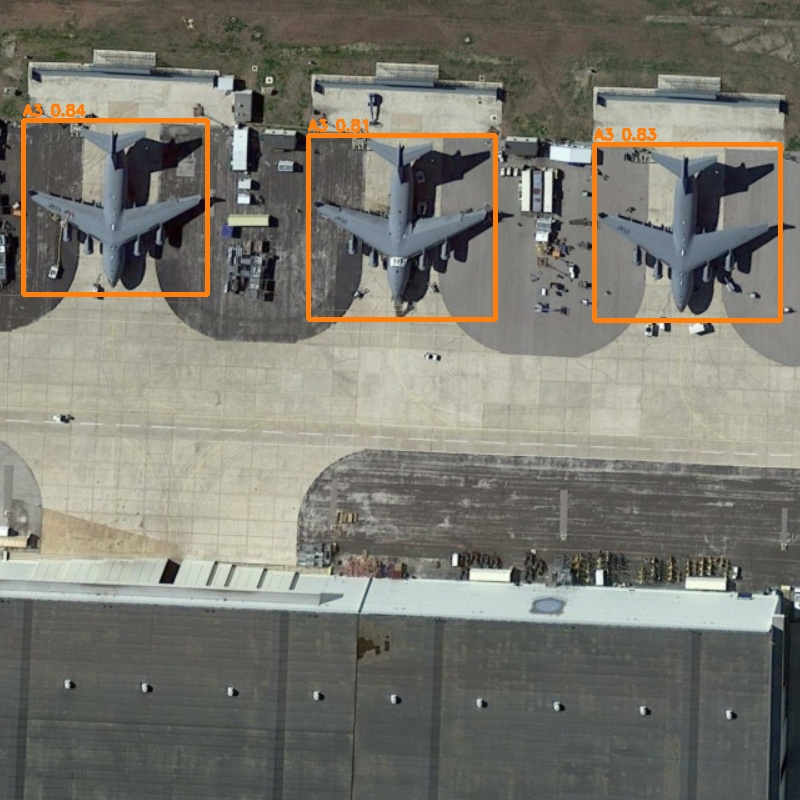A3: (308, 135, 495, 319), (594, 144, 780, 320), (23, 120, 207, 294)
